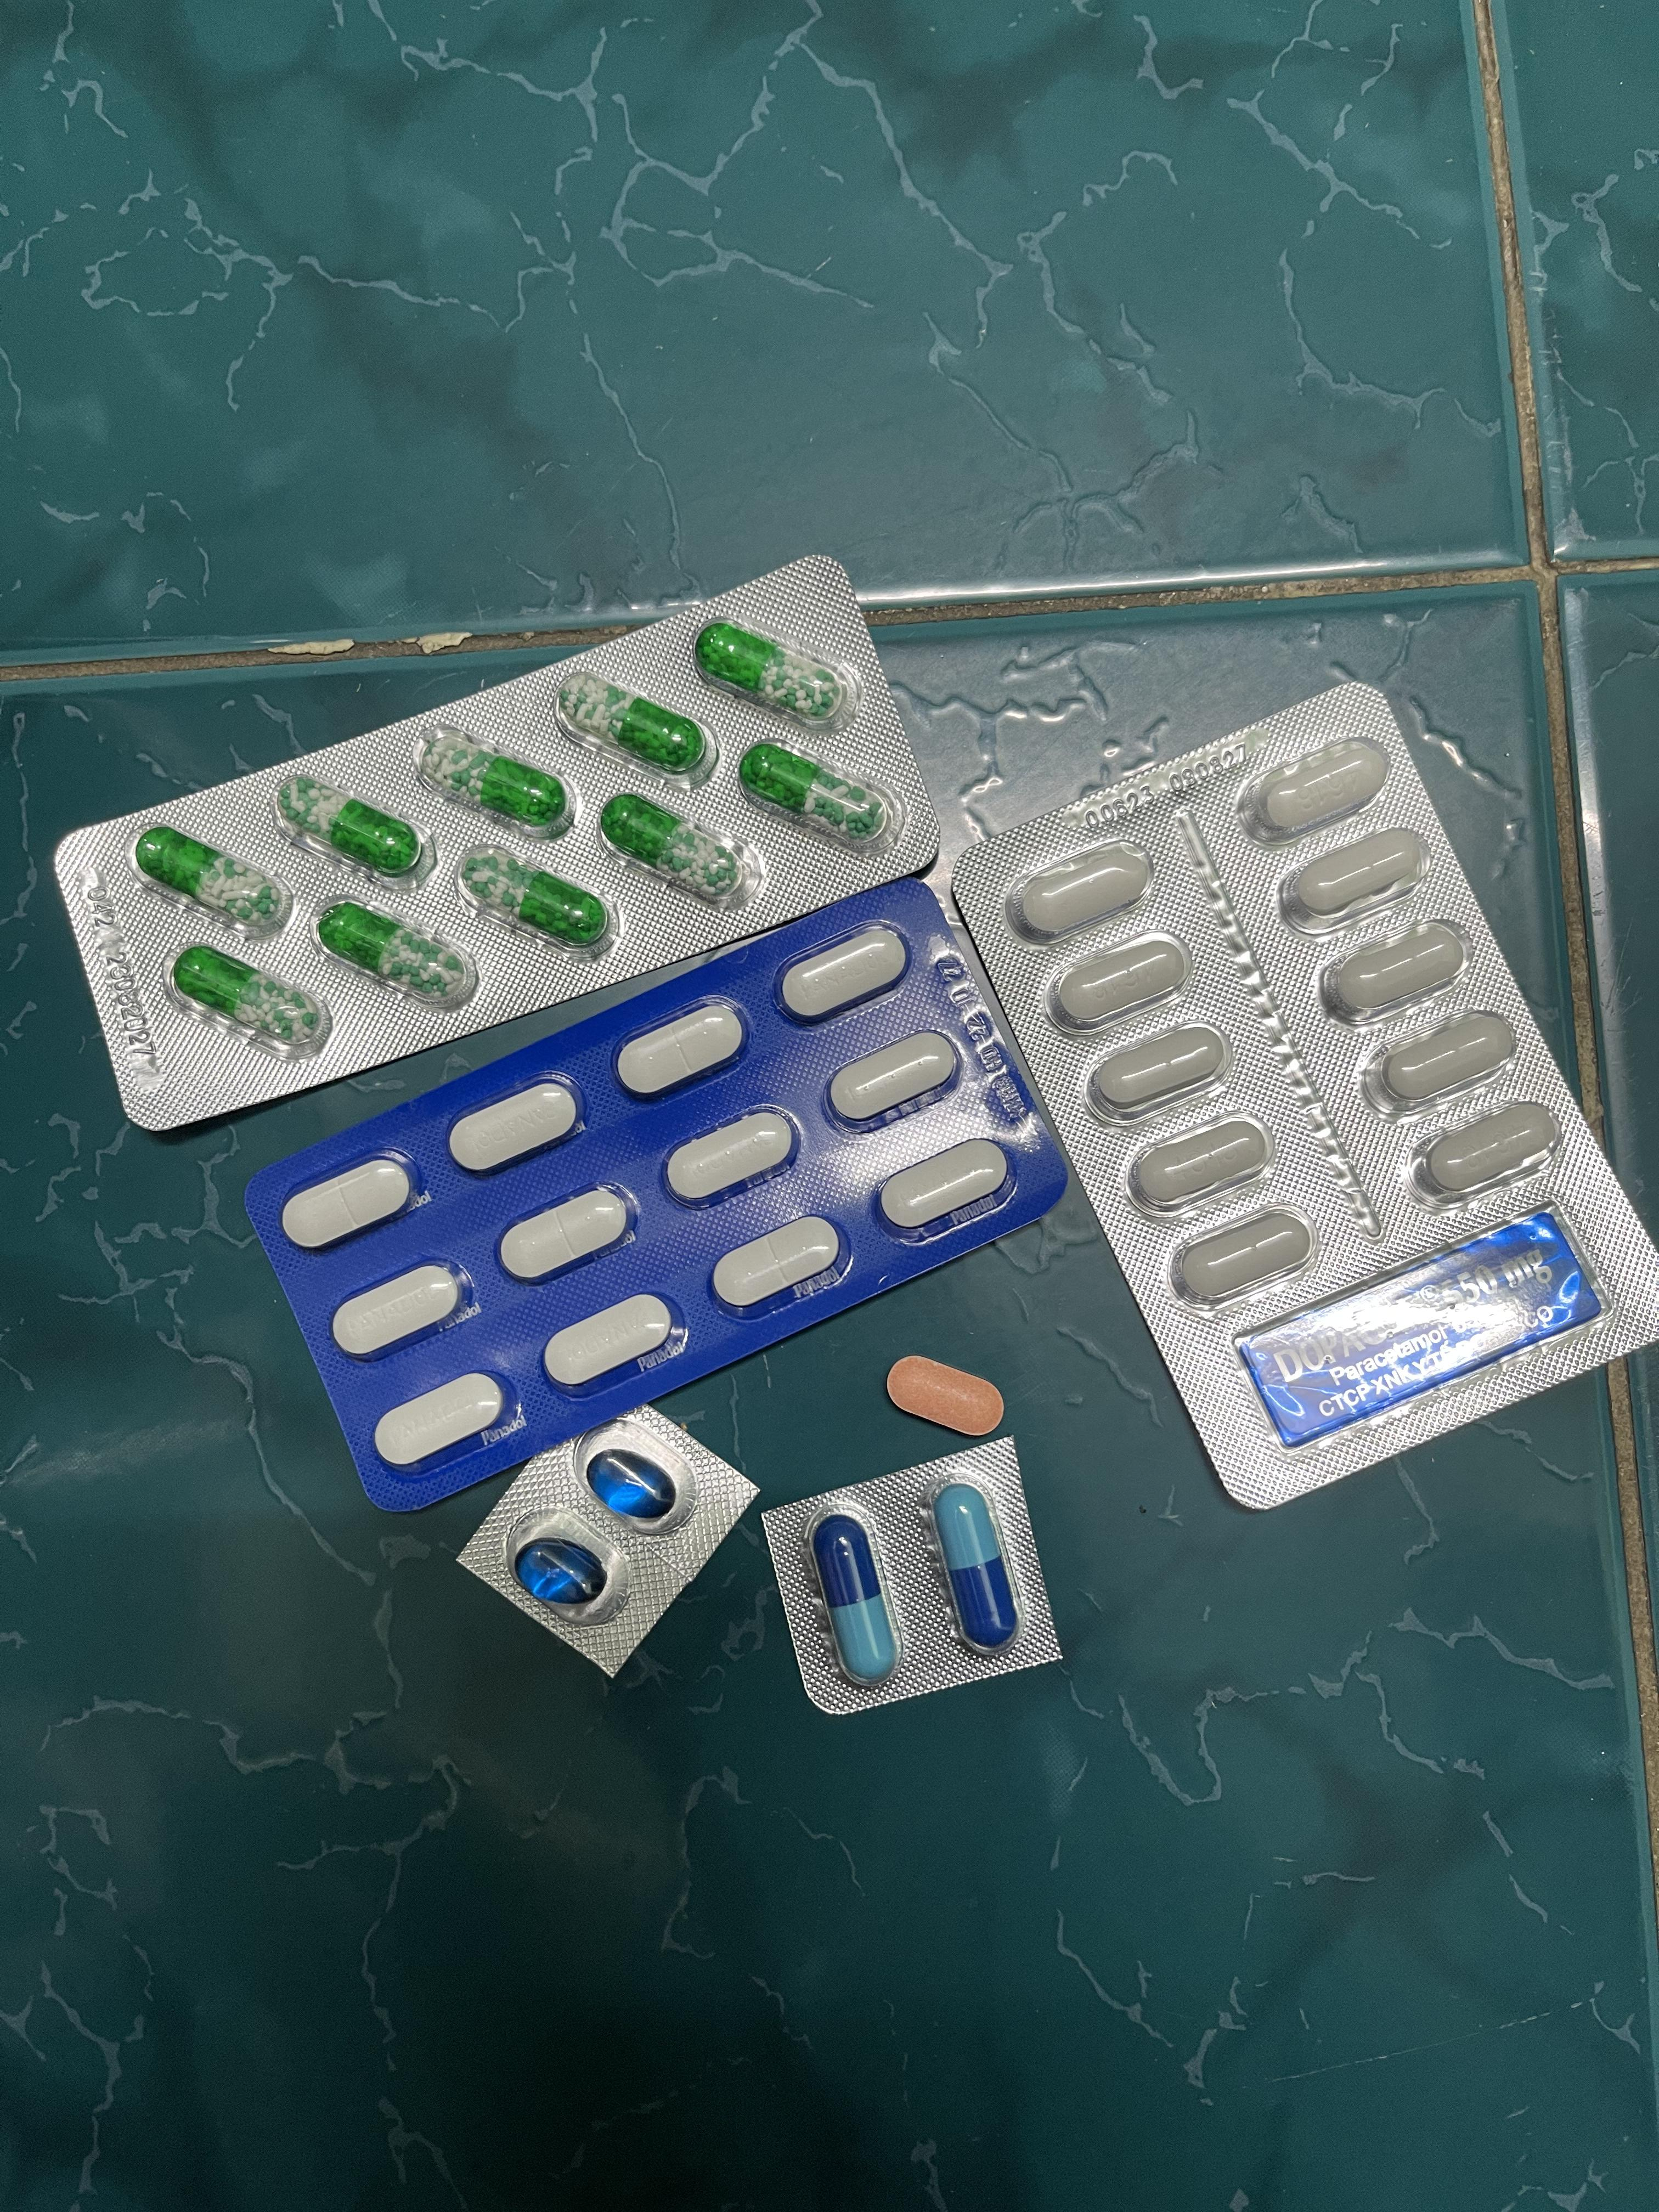Lincomyxin_500mg: (589, 1449, 676, 1517), (518, 1541, 606, 1606)
Loratadine_10mg: (885, 1353, 1004, 1435)
Paracetamol_350mg: (329, 1261, 469, 1360), (497, 1184, 636, 1284), (373, 1371, 511, 1470), (279, 1153, 418, 1251), (542, 1292, 680, 1390), (662, 1108, 800, 1204), (613, 1000, 746, 1099), (777, 921, 906, 1021), (446, 1078, 582, 1172), (708, 1216, 843, 1310), (824, 1031, 960, 1125), (875, 1139, 1009, 1231)
Paracetamol_500mg: (1403, 1099, 1561, 1207), (1276, 826, 1429, 935), (1166, 1202, 1316, 1306), (1004, 838, 1152, 942), (1124, 1111, 1274, 1212), (1086, 1019, 1229, 1122), (1323, 925, 1467, 1017), (1258, 740, 1396, 836), (1382, 1015, 1523, 1106), (1053, 944, 1194, 1031)
Paracetamol_650mg: (319, 902, 469, 1001), (173, 946, 322, 1045), (601, 794, 746, 897), (136, 827, 284, 925), (699, 622, 845, 719), (561, 674, 708, 770), (742, 742, 884, 841), (282, 775, 423, 874), (462, 850, 606, 946), (423, 733, 566, 826)
pill: (932, 1482, 1016, 1651), (814, 1512, 896, 1683)
